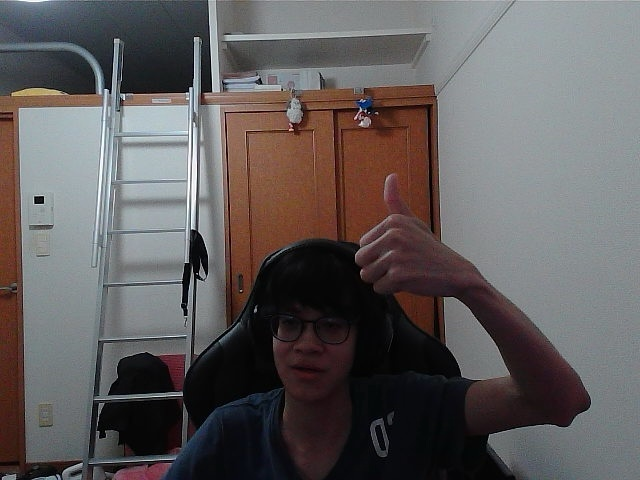thumb_up: (361, 180, 446, 286)
